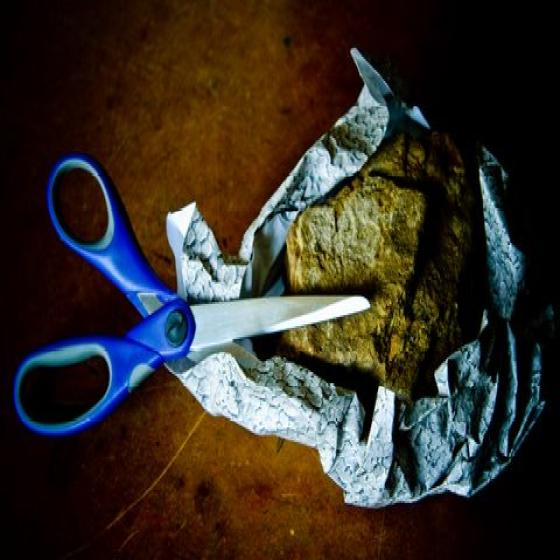scissors: (12, 154, 373, 436)
